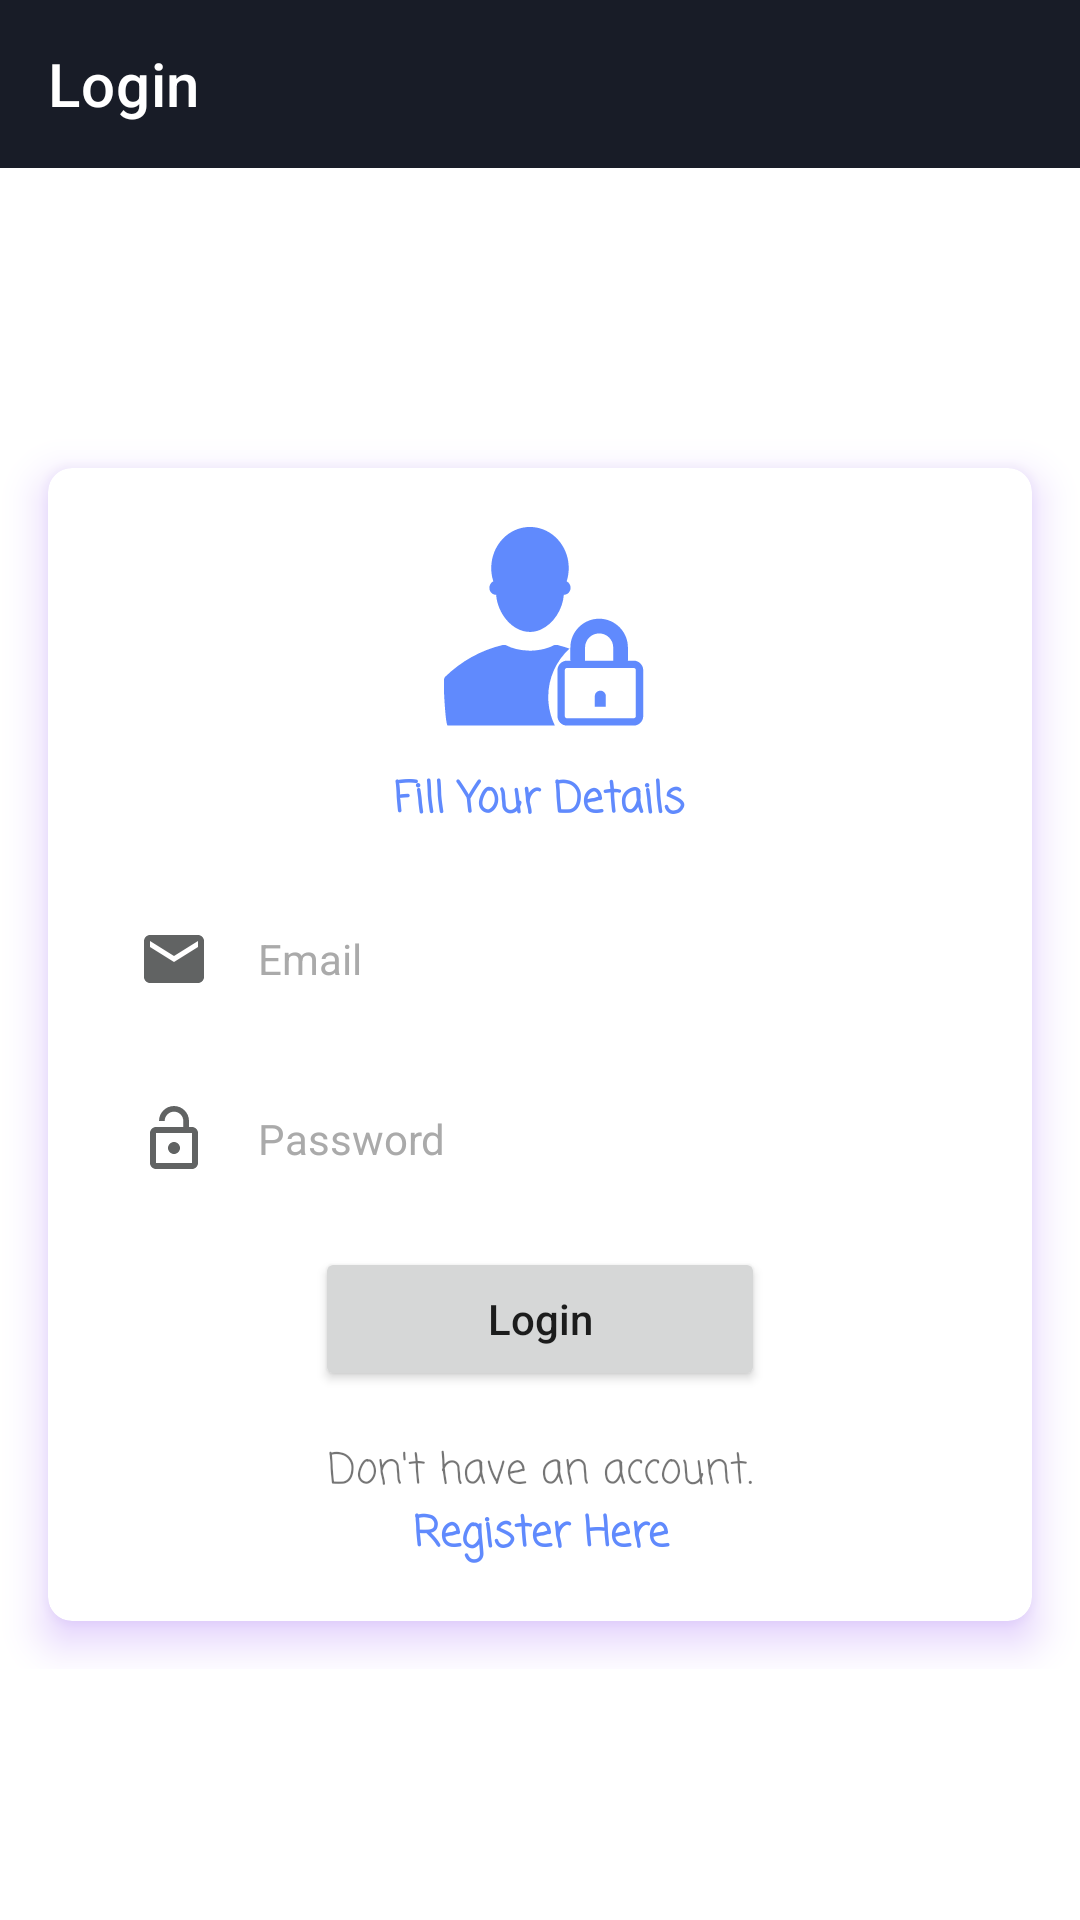

Point at icon controls on the screen. Image size 1080 x 1920, points as (x,y).
login user: (544,626)
